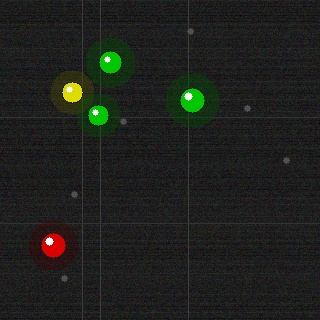green_normal: (178, 86, 206, 114), (97, 49, 123, 75), (86, 103, 110, 127)
red_fault: (39, 231, 67, 259)
yellow_warning: (60, 80, 84, 104)
